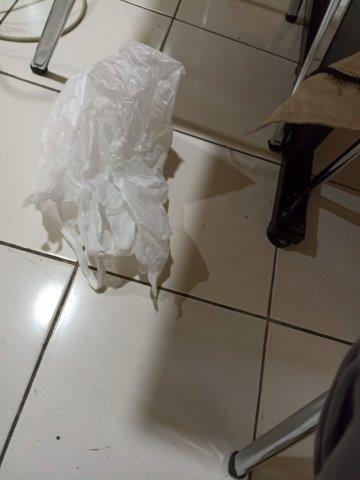plastik: (38, 41, 183, 300)
